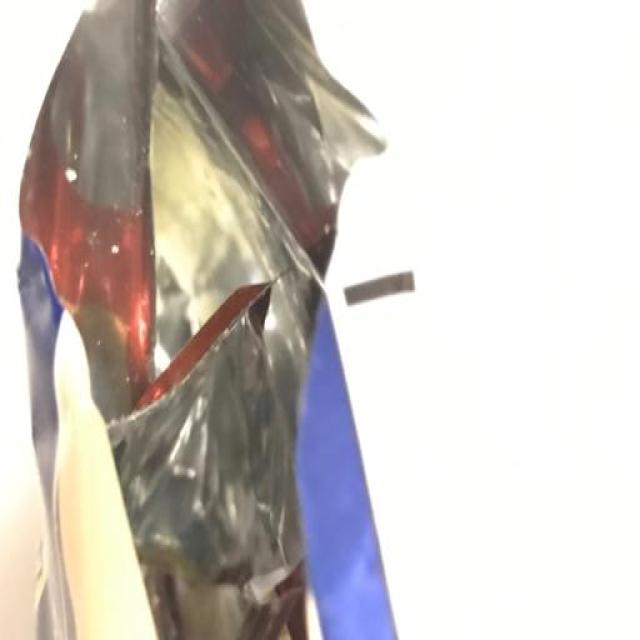Random Trash: (0, 0, 400, 640)
